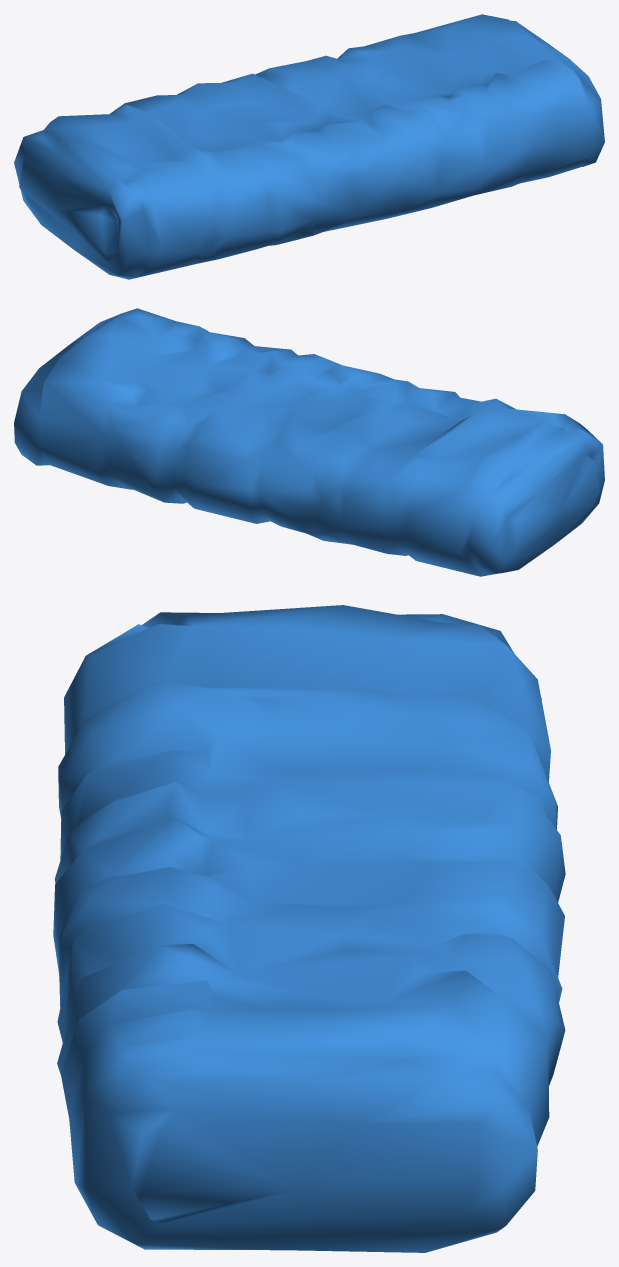
File: SM_prop_futon_fallen.glb
3 views of the same model, one above another, from view 1: azimuth 30°, elevation 25°; view 2: azimuth 150°, elevation 25°; view 3: azimuth 270°, elevation 25° (orthographic). The views are drawn at different scales.
Parts seen in each view (by area): view 1: SM_prop_futon_fallen; view 2: SM_prop_futon_fallen; view 3: SM_prop_futon_fallen.
Boxes of the visible parts, x1,y1,x2,y2 form: SM_prop_futon_fallen: (14, 14, 604, 279); SM_prop_futon_fallen: (14, 308, 604, 576); SM_prop_futon_fallen: (53, 605, 565, 1252).
Bounding box in the file's own units: 2.11 × 0.45 × 0.9361.
1 material, 1 textured.
